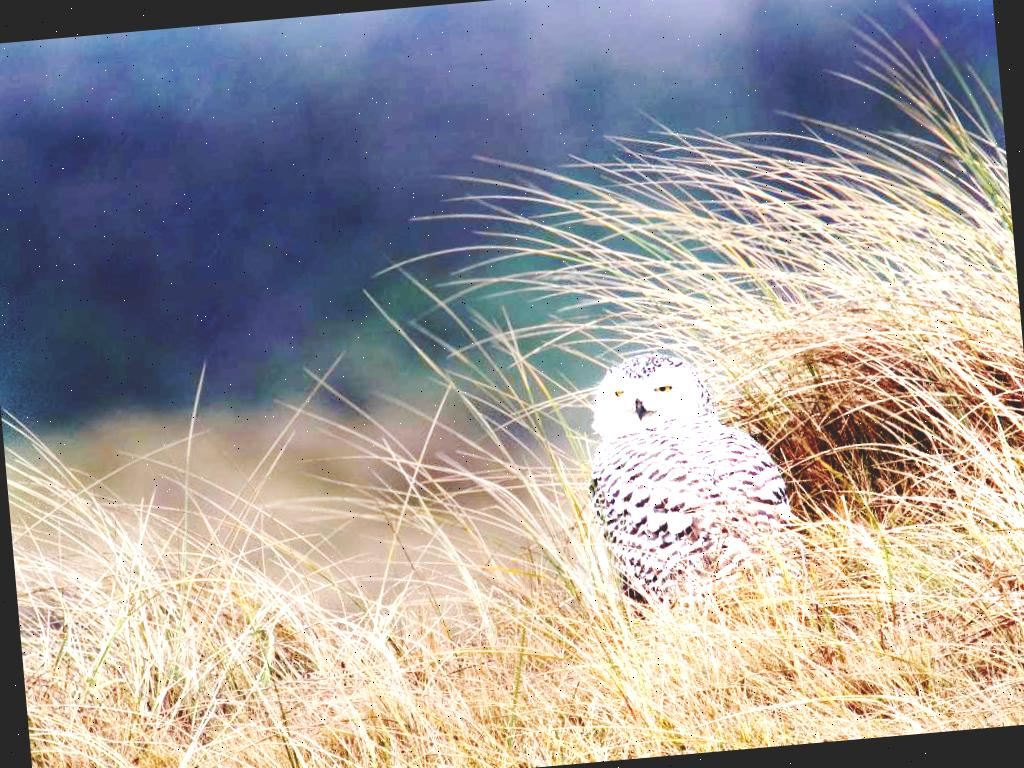Owl: (564, 335, 814, 606)
